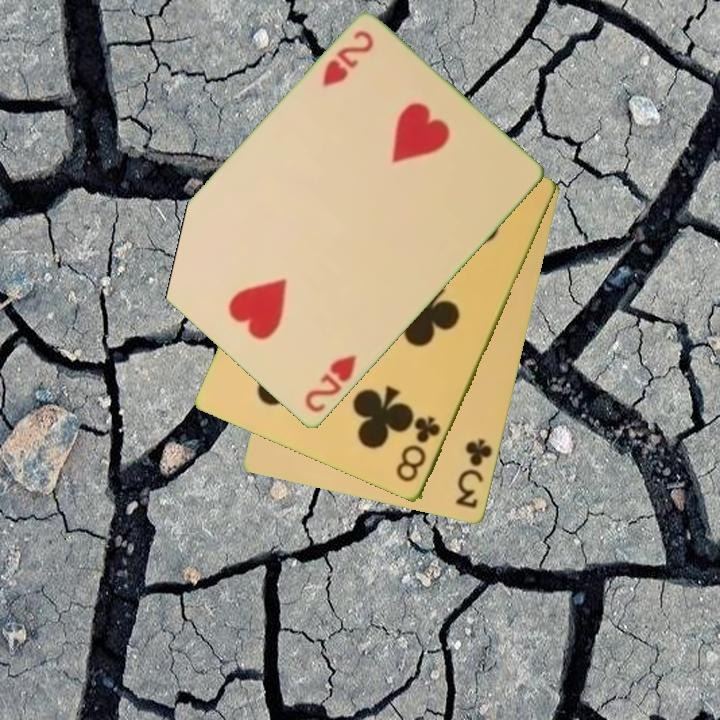2h: (301, 351, 360, 416), (319, 27, 377, 90)
3c: (452, 435, 496, 512)
8c: (393, 413, 444, 486)
